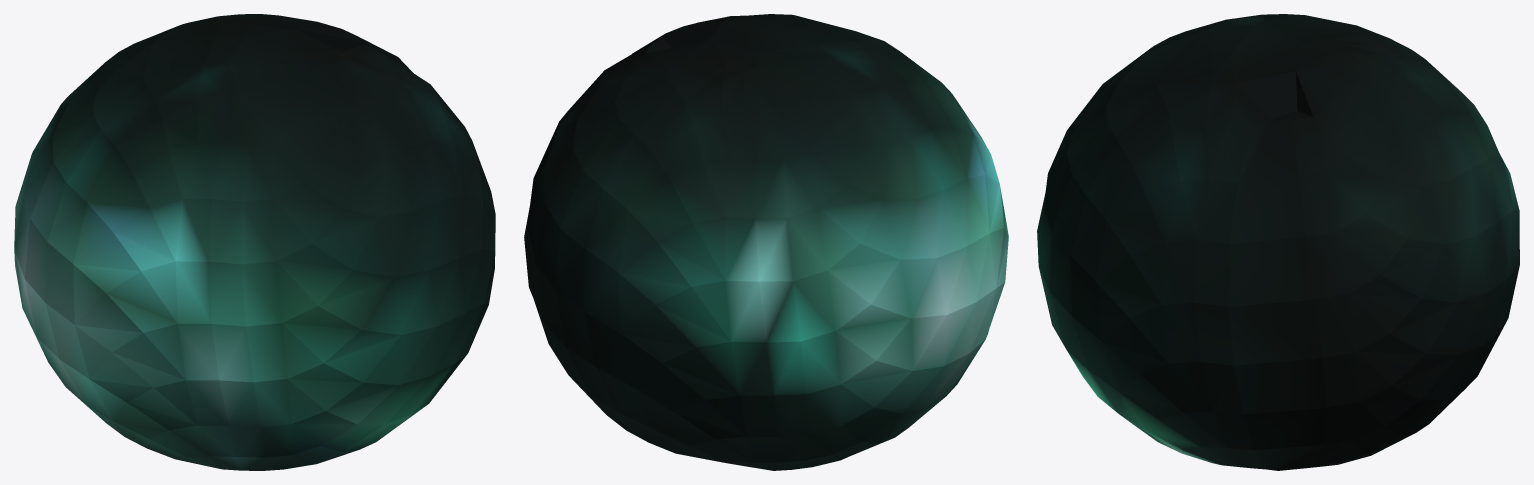
3 renders of one model, left to right at view 1: azimuth 30°, elevation 25°; view 2: azimuth 150°, elevation 25°; view 3: azimuth 270°, elevation 25°, orthographic.
Parts seen in each view (by area): view 1: Curve.001; view 2: Curve.001; view 3: Curve.001.
Part boxes in pixels (x1,y1,x2,y2): Curve.001: [14, 14, 495, 470]; Curve.001: [524, 14, 1008, 470]; Curve.001: [1037, 14, 1519, 470].
Bounding box in the file's own units: 746 × 679 × 749.
